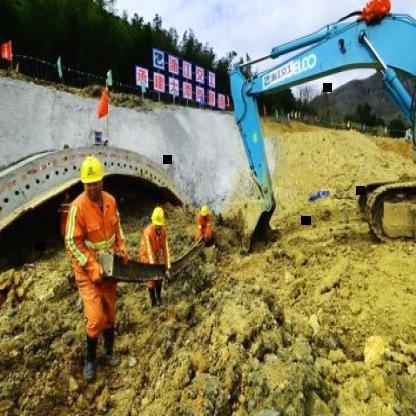helmet: (77, 152, 106, 187), (151, 204, 166, 230), (198, 200, 209, 220)
